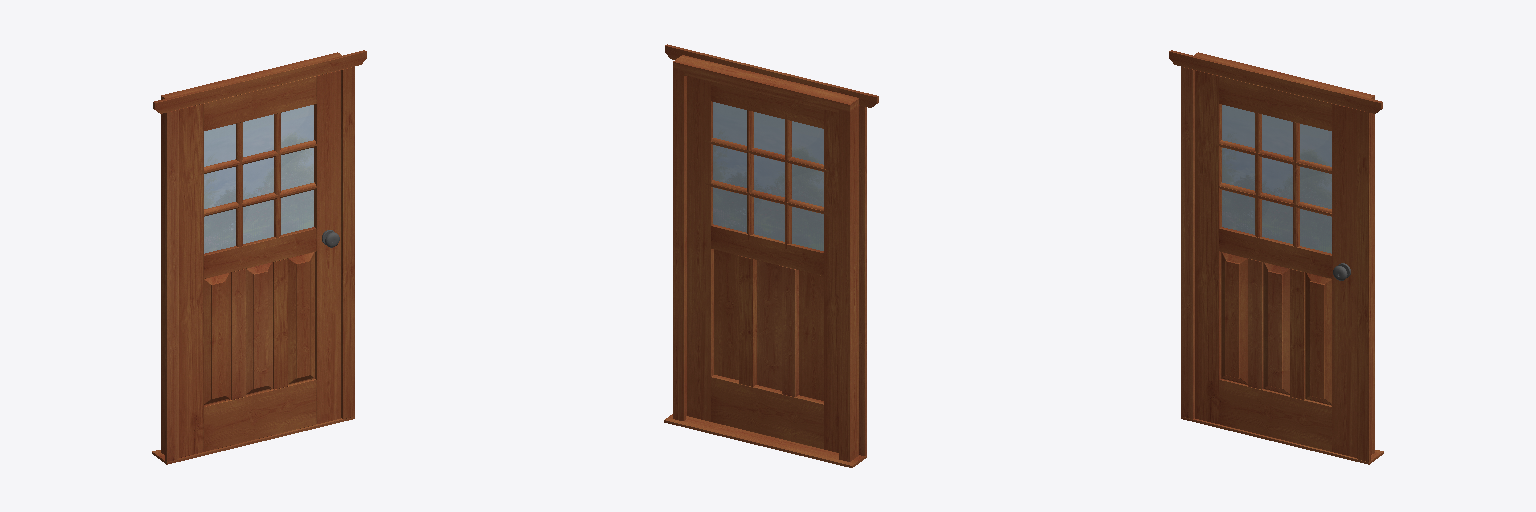
The picture shows the model from 3 angles: view 1: azimuth 30°, elevation 25°; view 2: azimuth 150°, elevation 25°; view 3: azimuth 330°, elevation 25°; orthographic projection.
Parts seen in each view (by area): view 1: glass, door_right, door_left, door_bottom, trim_right, trim_left, panel_extruded001, panel_extruded003, panel_extruded002, door_top, trim_top, door_middle (+9 smaller); view 2: glass, door_right, box_left, door_bottom, door_left, panel_extruded001, panel_extruded002, panel_extruded003, box_top, trim_left, door_middle, box_right (+12 smaller); view 3: glass, door_left, door_right, door_bottom, trim_left, trim_right, panel_extruded001, panel_extruded003, panel_extruded002, door_top, trim_top, door_middle (+9 smaller).
Part boxes in pixels (bbox=[...]): glass: bbox=[204, 105, 313, 253]; door_right: bbox=[314, 70, 340, 423]; door_left: bbox=[179, 104, 203, 457]; door_bottom: bbox=[204, 379, 316, 451]; trim_right: bbox=[341, 67, 354, 418]; trim_left: bbox=[165, 110, 178, 461]; panel_extruded001: bbox=[204, 272, 230, 405]; panel_extruded003: bbox=[288, 252, 314, 384]; panel_extruded002: bbox=[246, 262, 272, 394]; door_top: bbox=[204, 76, 316, 130]; trim_top: bbox=[153, 50, 366, 113]; door_middle: bbox=[204, 227, 316, 278]; glass: bbox=[713, 102, 823, 250]; door_right: bbox=[687, 76, 713, 421]; box_left: bbox=[843, 106, 858, 461]; door_bottom: bbox=[711, 375, 823, 448]; door_left: bbox=[824, 110, 838, 452]; panel_extruded001: bbox=[799, 270, 823, 400]; panel_extruded002: bbox=[757, 260, 781, 390]; panel_extruded003: bbox=[714, 250, 738, 379]; box_top: bbox=[673, 55, 858, 111]; trim_left: bbox=[859, 105, 866, 455]; door_middle: bbox=[711, 224, 823, 275]; box_right: bbox=[673, 69, 686, 420]; glass: bbox=[1222, 105, 1331, 253]; door_left: bbox=[1195, 70, 1221, 423]; door_right: bbox=[1332, 104, 1356, 457]; door_bottom: bbox=[1219, 379, 1331, 451]; trim_left: bbox=[1181, 67, 1194, 418]; trim_right: bbox=[1357, 110, 1370, 461]; panel_extruded001: bbox=[1221, 252, 1247, 384]; panel_extruded003: bbox=[1305, 272, 1331, 405]; panel_extruded002: bbox=[1263, 262, 1289, 394]; door_top: bbox=[1219, 76, 1331, 130]; trim_top: bbox=[1169, 50, 1382, 113]; door_middle: bbox=[1219, 227, 1331, 278].
Size of the model in its own units: 45.48 by 74.75 by 7.31.
10 materials, 9 textured.